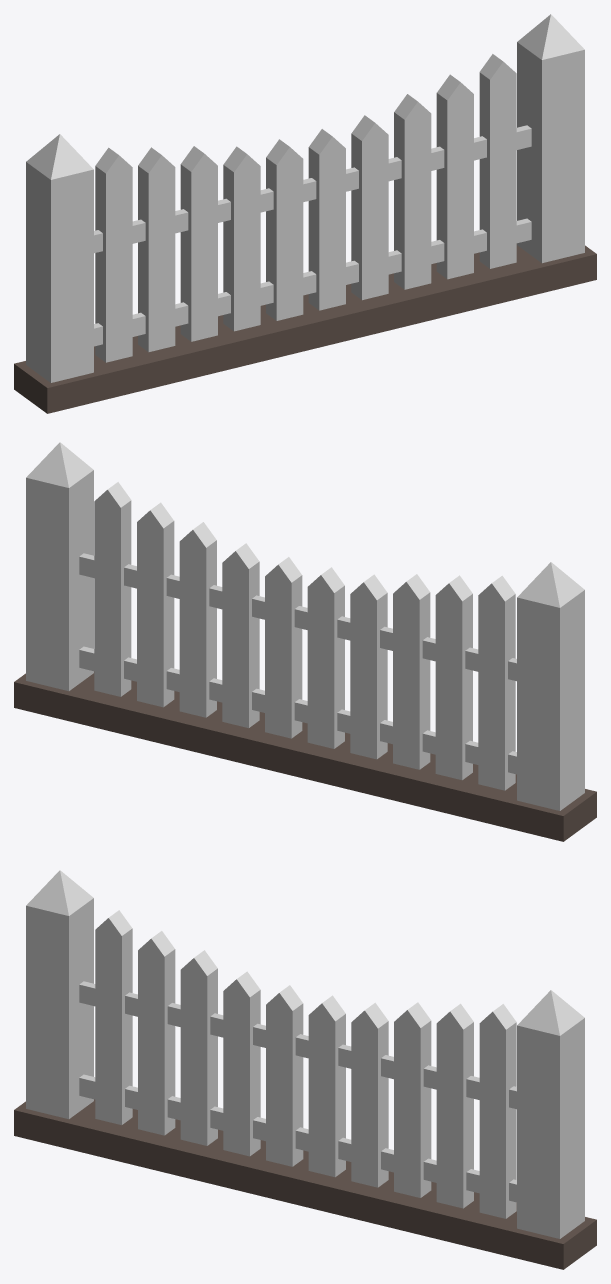
The model's file is ModelFence_04.fbx.
3 views of the same model, one above another, from view 1: azimuth 30°, elevation 25°; view 2: azimuth 150°, elevation 25°; view 3: azimuth 330°, elevation 25° (orthographic).
Visible parts, largest first — view 1: Fence_joubu; view 2: Fence_joubu; view 3: Fence_joubu.
Part boxes in pixels (x1,y1,x2,y2): Fence_joubu: (14,14,596,413); Fence_joubu: (14,442,596,841); Fence_joubu: (14,870,596,1269).
Size of the model in its own units: 200 by 90.68 by 21.09.
